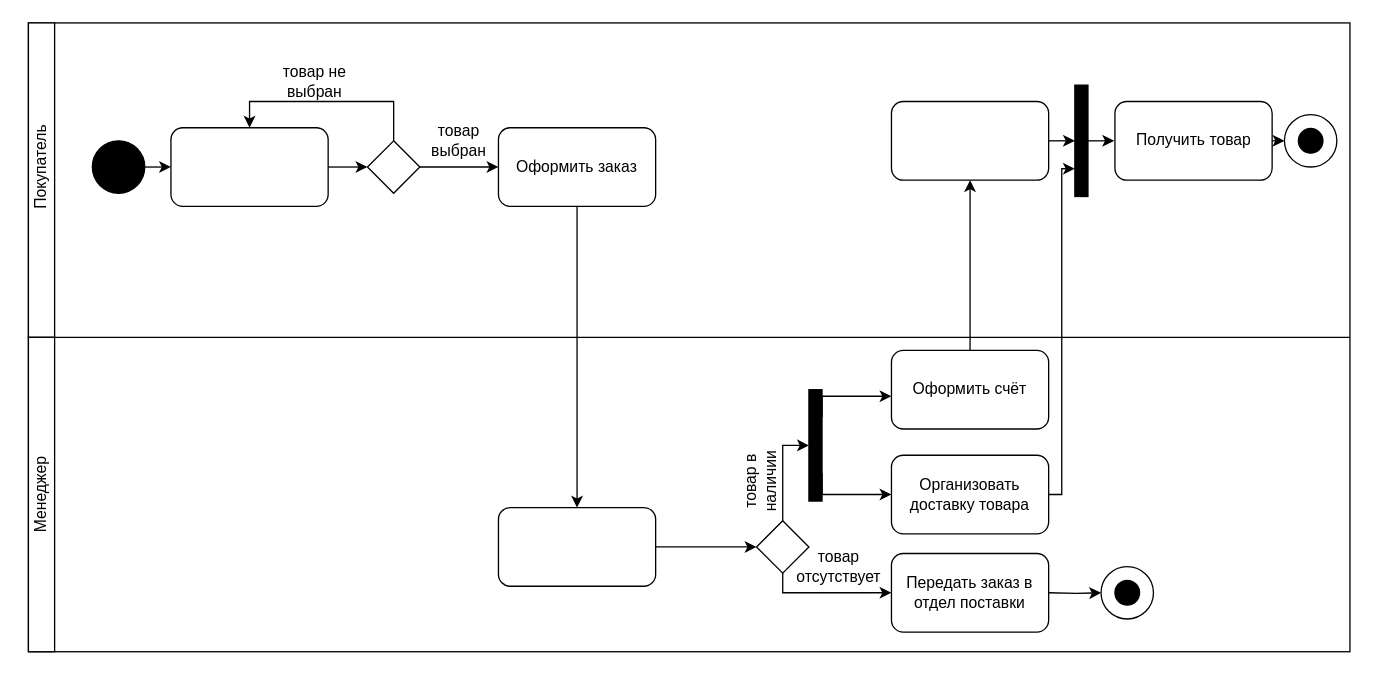
Some shapes in this 1376 by 675 pixel diagram are drawn without their labels. Here are the shapes that lost their labels. From the top down, the centre of each, then its label:
pixel 969 140: Оплатить счёт
pixel 249 166: Выбрать товар
pixel 576 546: Проверить наличие товара
